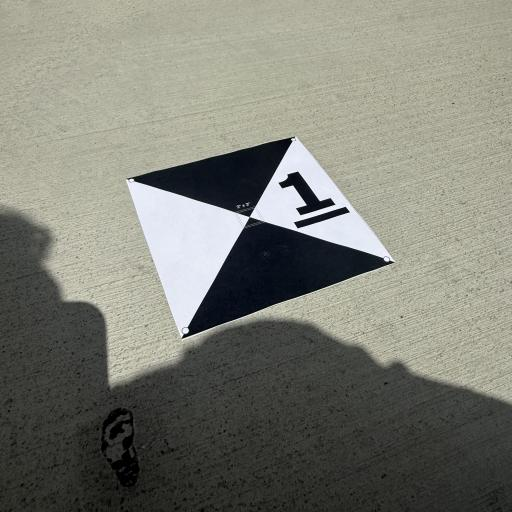target1: (121, 131, 396, 340)
